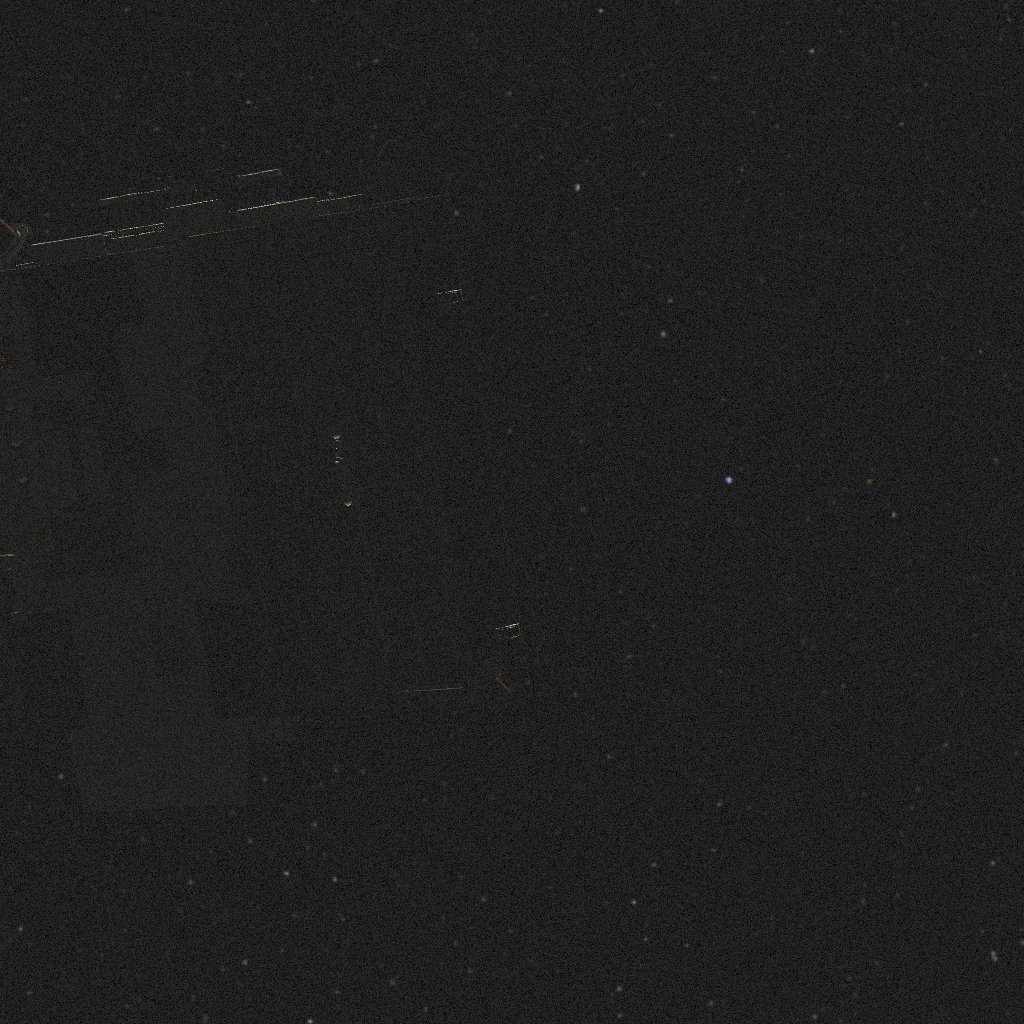proba_2: (0, 141, 527, 813)
